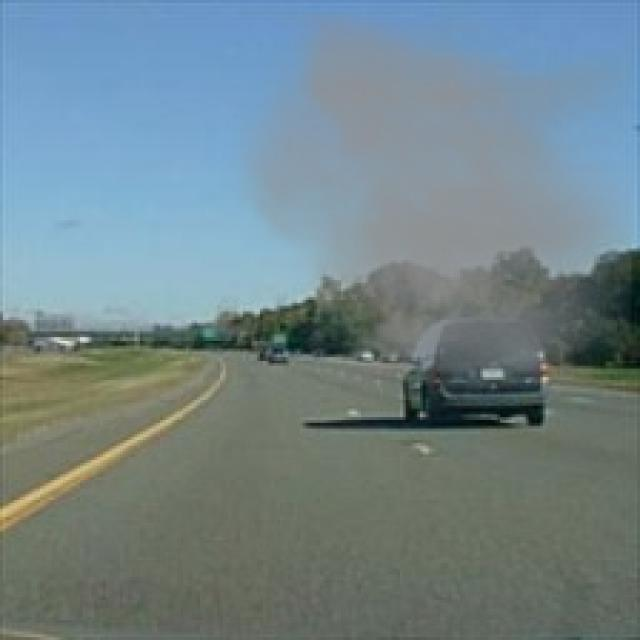Smoke: (219, 14, 632, 397)
